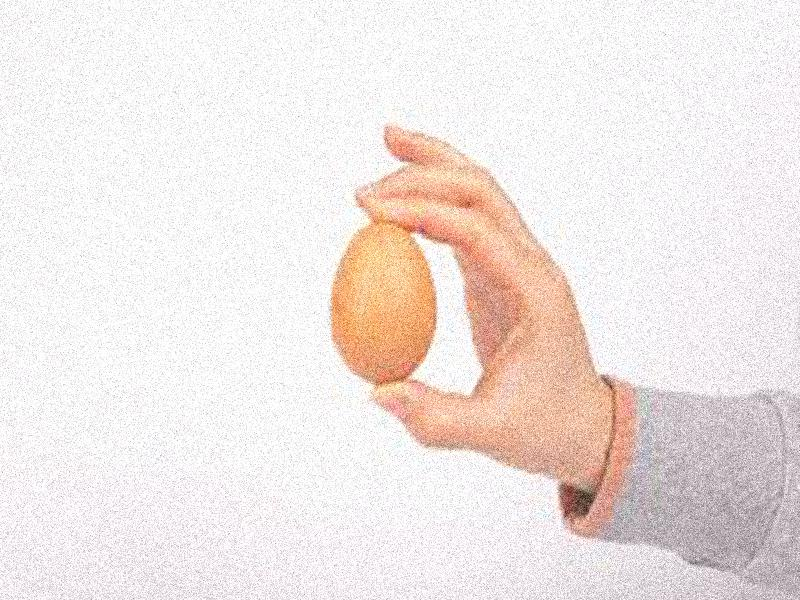Eggs: (330, 217, 433, 379)
